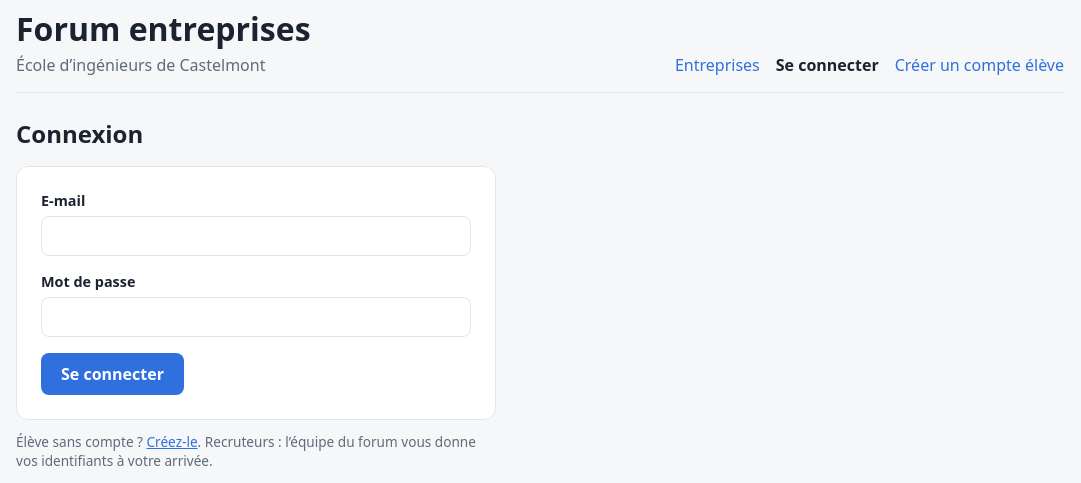
Scenario: LoginPage › sends the email and password to POST /auth/login, and keeps the token
The image size is (1081, 483).
Type "camille@etu.test" into the field labelled "E-mail".
click(256, 236); type("camille@etu.test")  # box [41, 216, 471, 256]
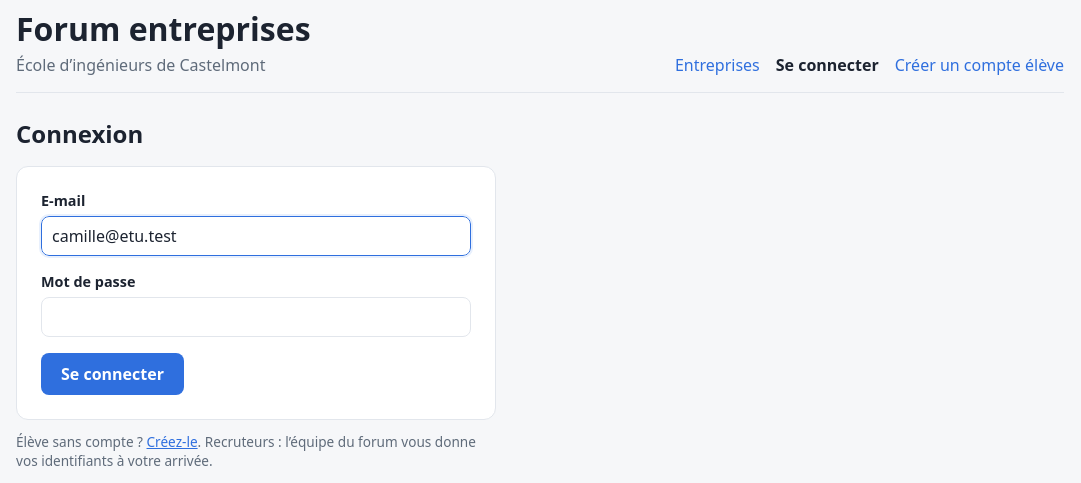
Type "password" into the password field labelled "Mot de passe".
click(256, 317); type("password")  # box [41, 297, 471, 337]
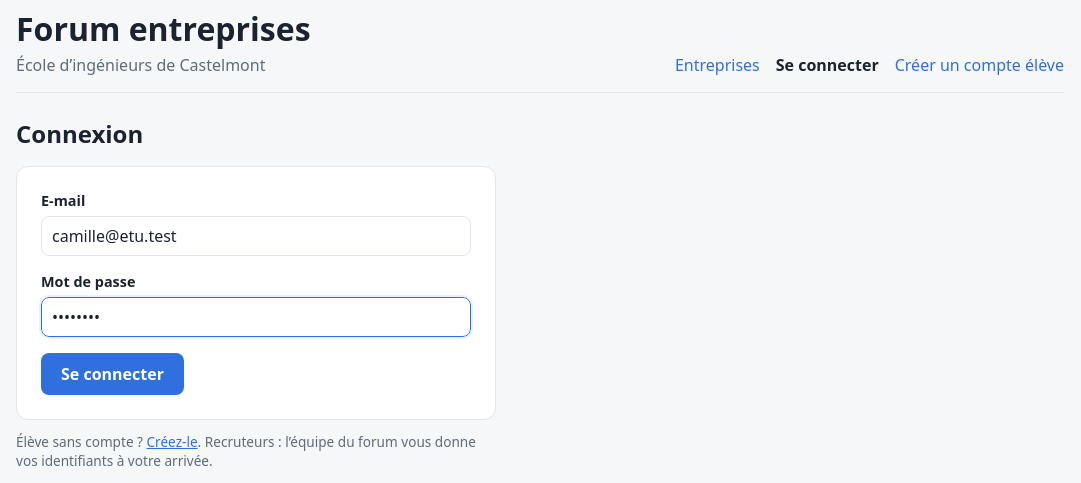
Click the button "Se connecter".
click(112, 374)  # box [41, 353, 184, 395]
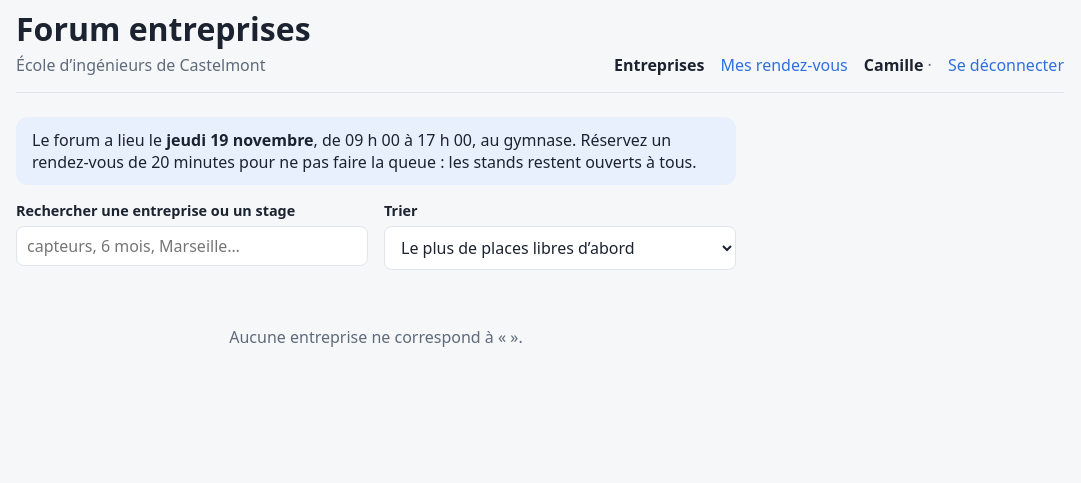
Expected: the button "Se déconnecter" is shown, [948, 54, 1064, 76]
